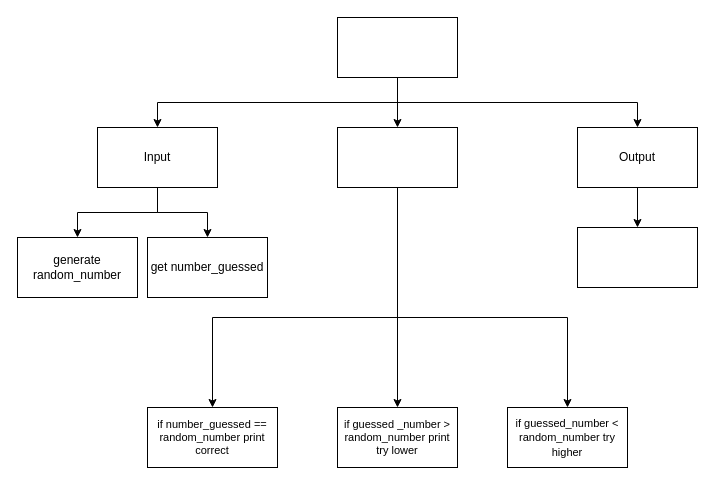
The diagram is 715 pixels wide and 485 high, and some of its shapes have lost their labels. Here are the shapes that lost their labels. From the top down, the centre of each, then its label:
At pixel 397 47: "Guessing number".
At pixel 397 157: "Process".
At pixel 637 257: "Show answer".
